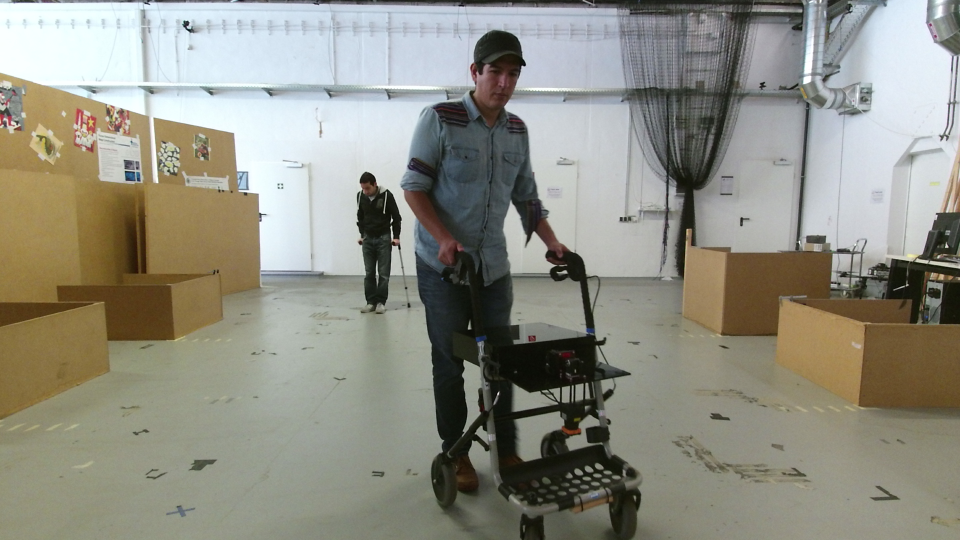crutches: (352, 168, 412, 316)
